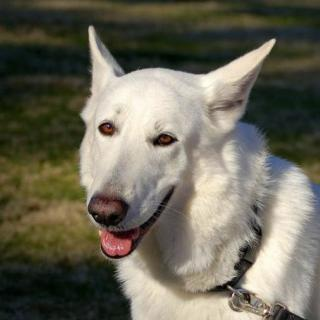dog: (47, 35, 292, 266)
nose: (87, 191, 130, 228)
